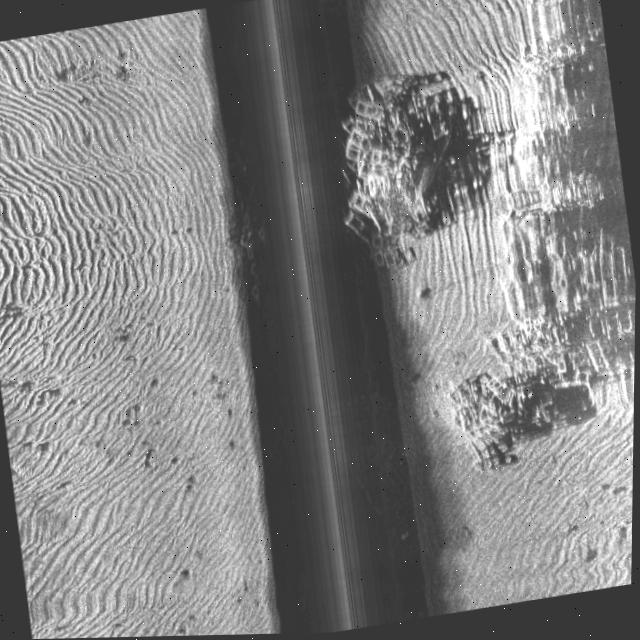artificial reef: (327, 71, 467, 304), (440, 325, 578, 475), (222, 189, 280, 315)
